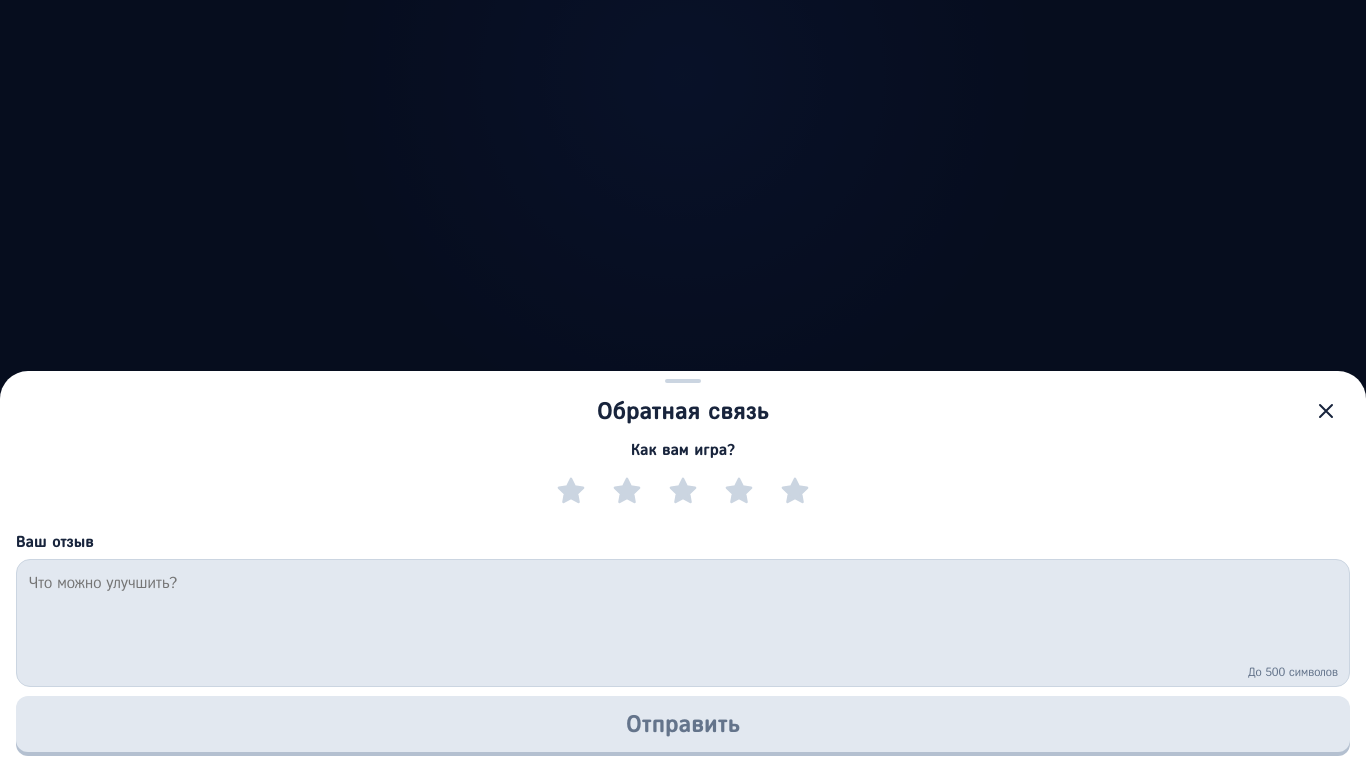
Test case: supporting overlays › shows the dynamic 500-character feedback counter
This screenshot has width=1366, height=768.
Expected: the heading "Как вам игра?" is shown, [631,441,735,458]
Expected: the text "До 500 символов" is shown, [1248,666,1338,678]
Type "Тест" into the text box labelled "Ваш отзыв". click: (683, 623)
box: [16,559,1350,687]
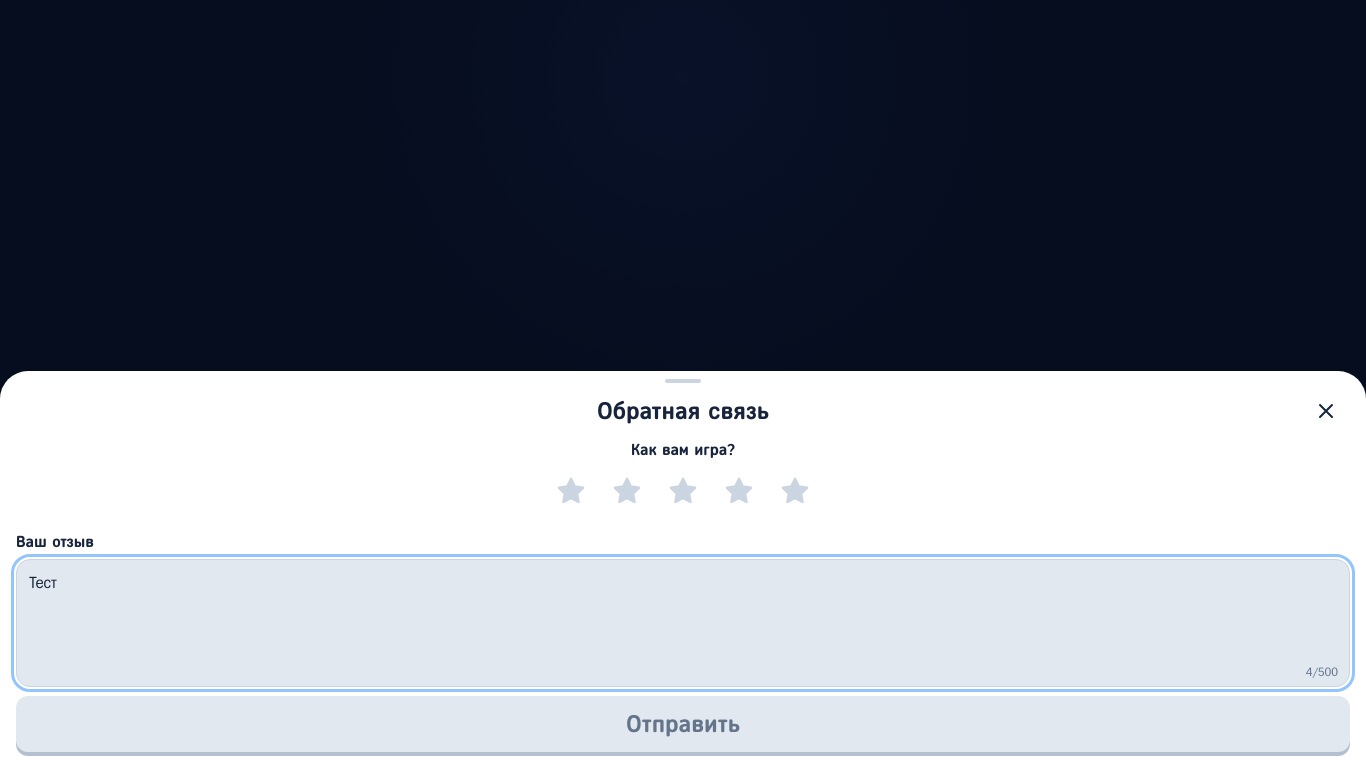
Expected: the text "4/500" is shown, [1306,666,1338,678]
